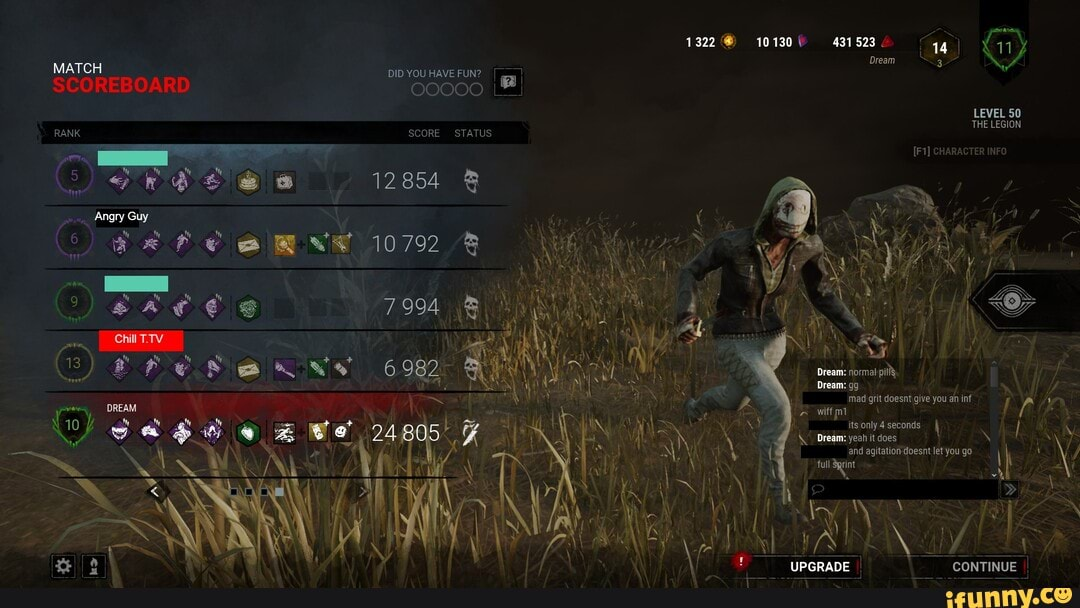adrenaline: (198, 228, 227, 256), (167, 354, 196, 382)
agitation: (104, 417, 133, 445)
any_means_necessary: (167, 166, 196, 194)
borrowed_time: (198, 355, 227, 383)
botany_knowledge: (135, 228, 164, 256)
dead_hard: (167, 228, 196, 256), (136, 354, 165, 382)
decisive_strike: (137, 293, 166, 321)
flashbang: (105, 166, 134, 194)
iron_grasp: (136, 417, 165, 445)
iron_will: (104, 293, 133, 321)
lithe: (198, 166, 227, 194)
mad_grit: (199, 418, 228, 446)
renewal: (104, 229, 133, 257)
self_aware: (104, 354, 133, 382)
spine_chill: (136, 166, 165, 194)
sprint_burst: (167, 293, 196, 321)
starstruck: (168, 418, 197, 446)
unbreakable: (199, 293, 228, 321)
